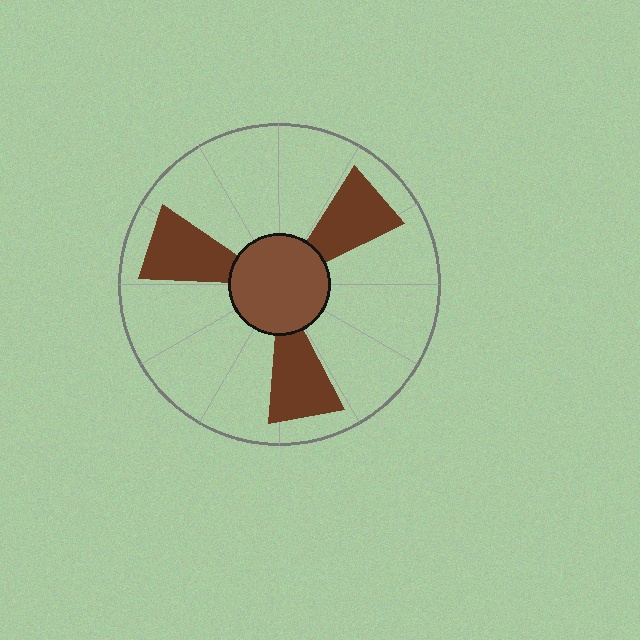fan: (114, 119, 444, 449)
